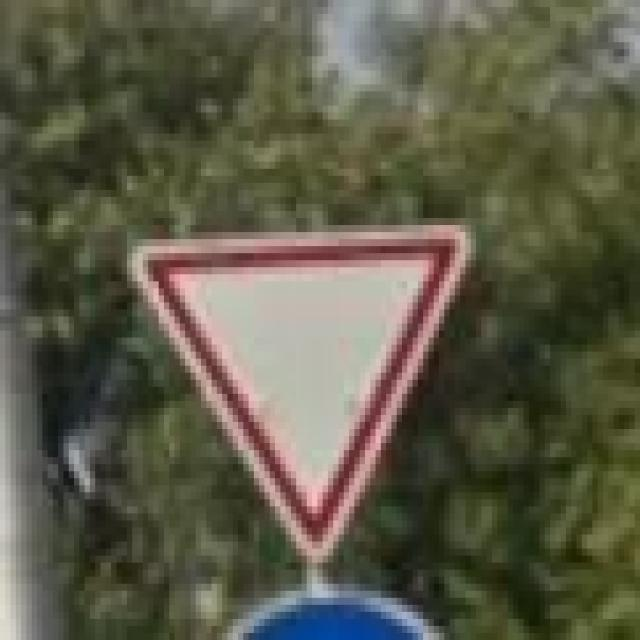give_way: (127, 225, 471, 570)
